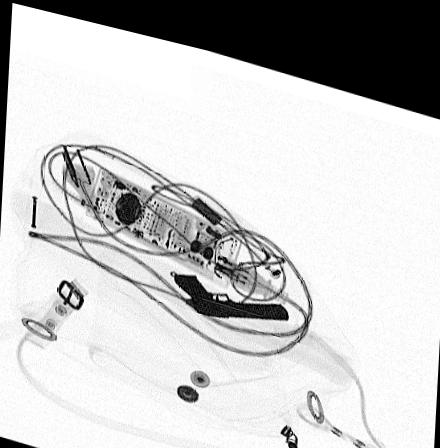Gun: (175, 264, 287, 304)
